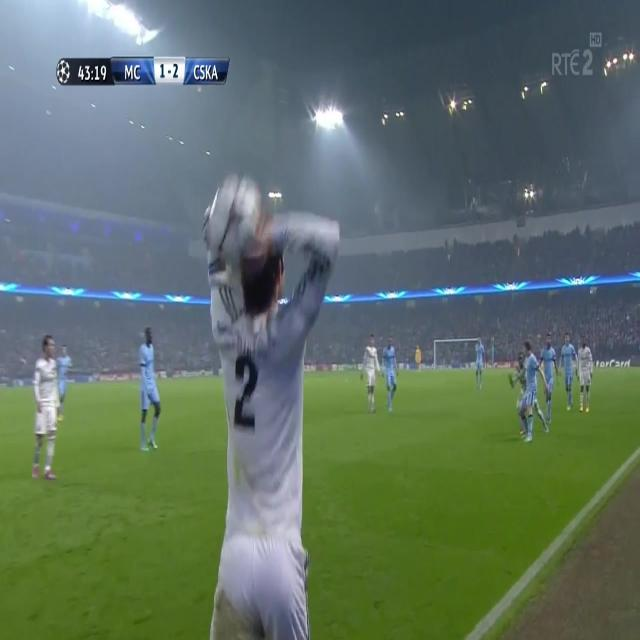Ball: (207, 169, 263, 270)
Goalkeeper: (411, 342, 423, 372)
Player: (203, 203, 339, 640), (29, 333, 61, 483), (138, 327, 162, 458), (520, 339, 549, 444), (538, 335, 561, 425), (358, 332, 382, 416), (576, 340, 598, 414), (382, 338, 403, 415), (558, 333, 576, 414), (56, 341, 73, 423), (474, 337, 486, 390)
